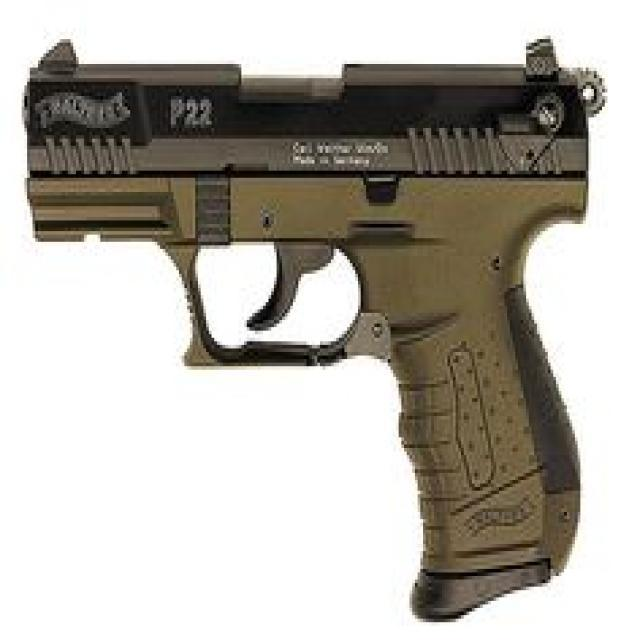semi automatic: (18, 25, 622, 640)
